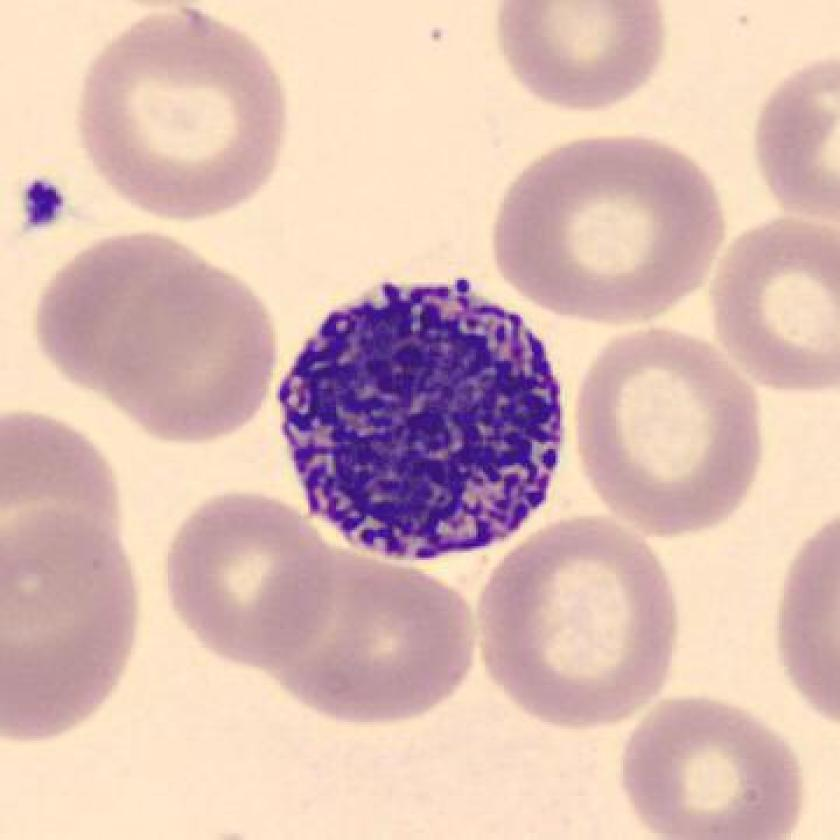basophil: (267, 277, 573, 564)
